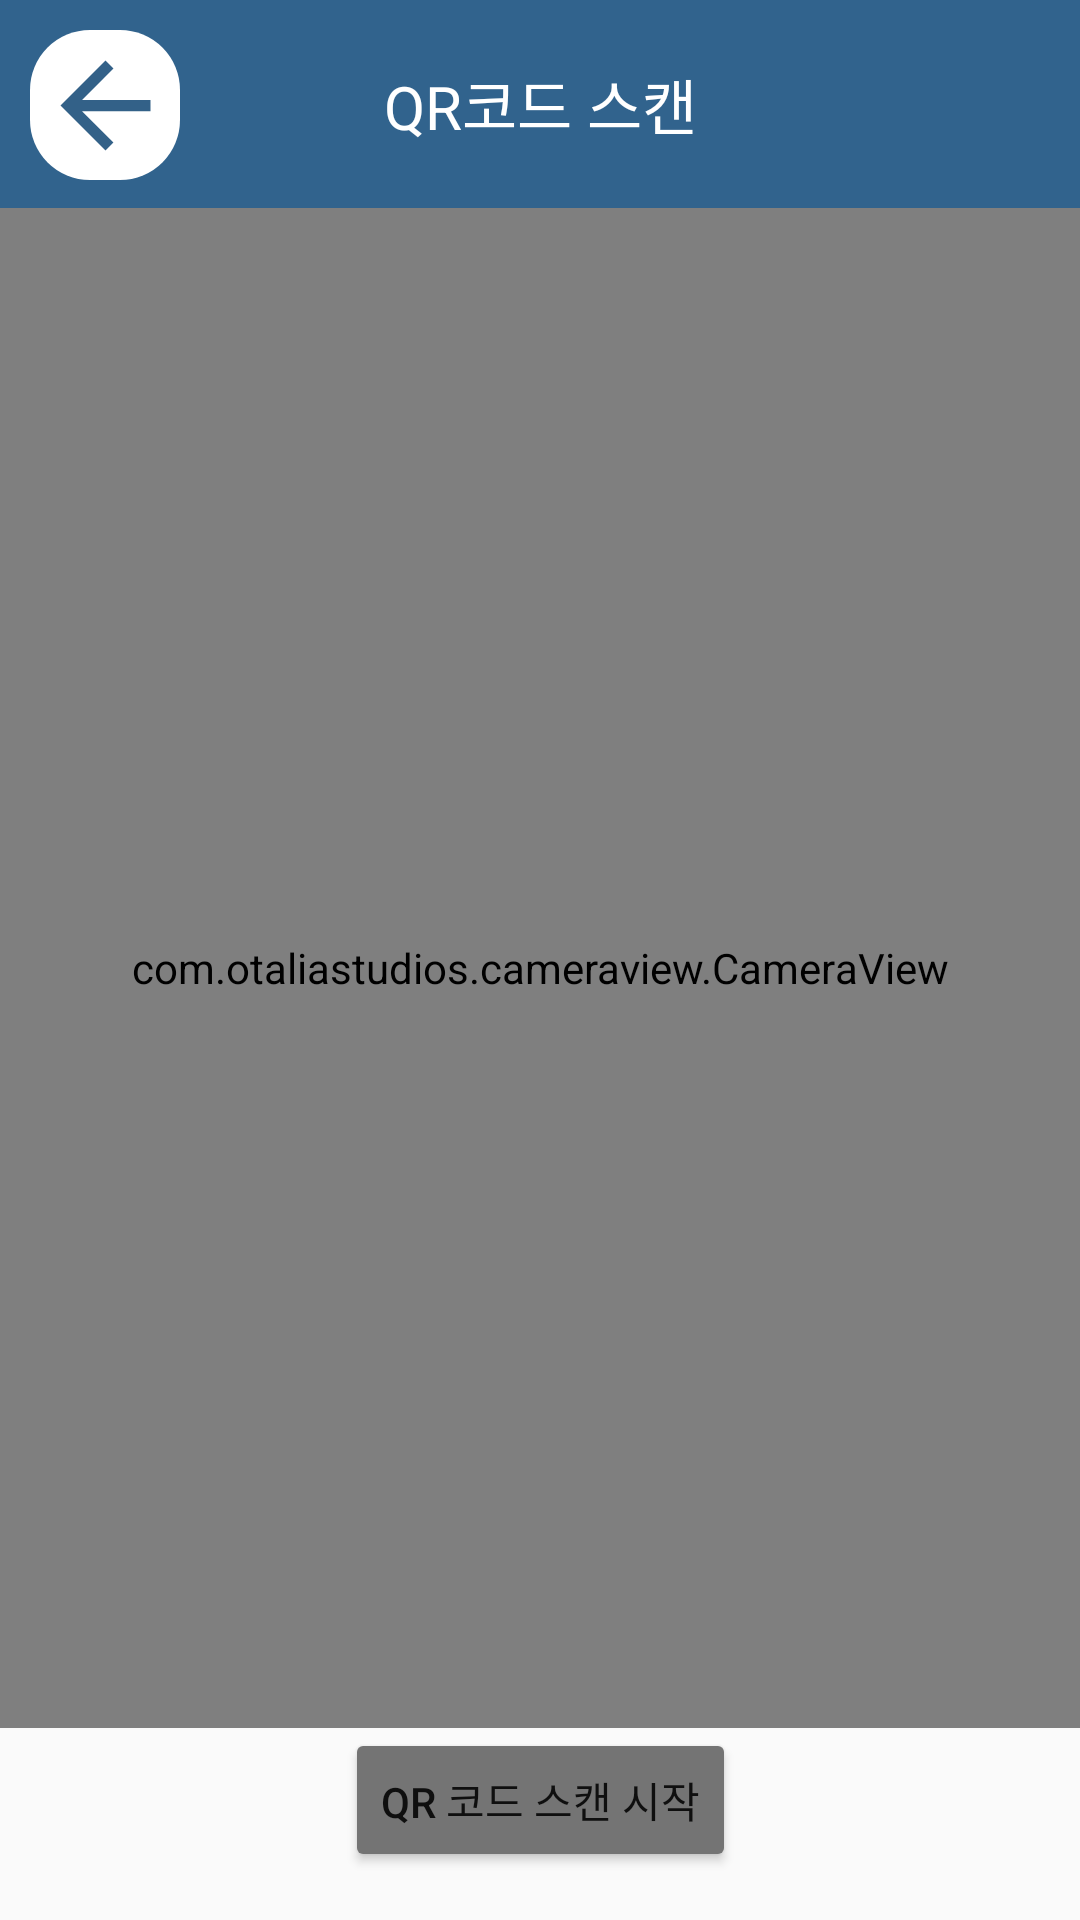

Where to tap for icons on this 1080 x 1920 app screen, as point (x, y):
back: point (105, 105)
